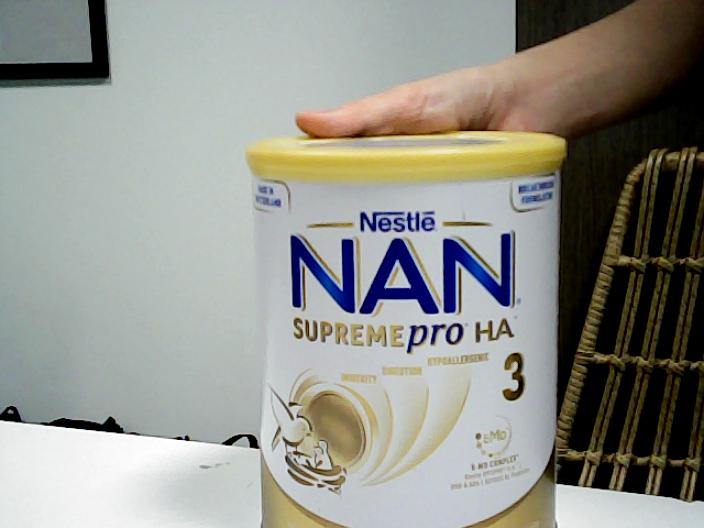Babymilk-powder_800-899g_Halal_NonHealthy: (245, 130, 565, 528)
